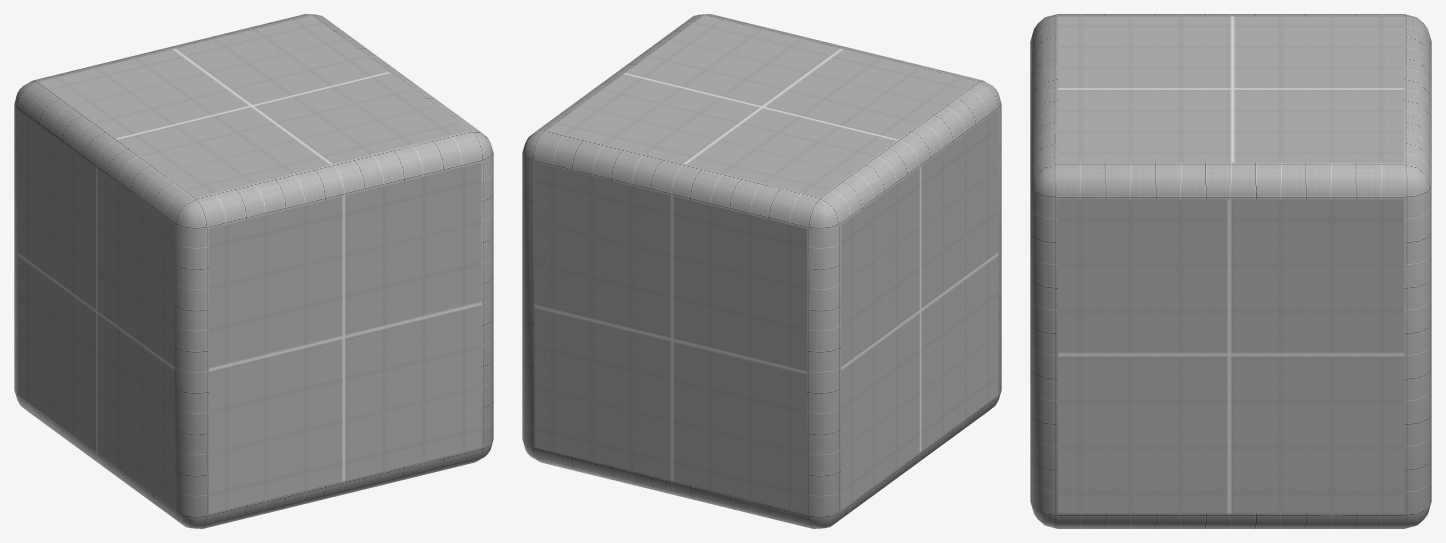
The model's file is tile_box-lg.obj.
The picture shows the model from 3 angles, left to right: view 1: azimuth 30°, elevation 25°; view 2: azimuth 150°, elevation 25°; view 3: azimuth 270°, elevation 25°; orthographic projection. The views are drawn at different scales.
Visible parts, largest first — view 1: Cube; view 2: Cube; view 3: Cube.
Boxes of the visible parts, <box> form: Cube: <box>14,14,493,528</box>; Cube: <box>522,14,1001,528</box>; Cube: <box>1030,14,1431,528</box>.
Size of the model in its own units: 16 by 16 by 16.
Materials: 2 (2 with a texture image).
